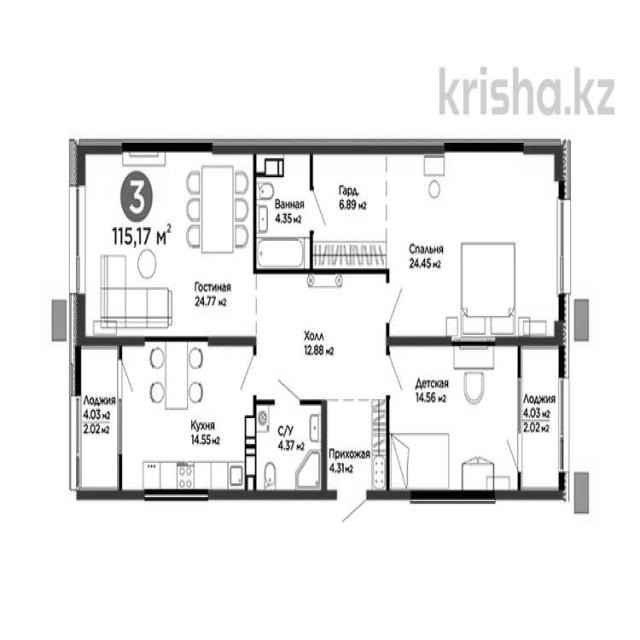balcony: (523, 349, 566, 494), (256, 402, 322, 495), (78, 345, 119, 492)
bathroom: (256, 148, 309, 270)
hallway: (258, 275, 383, 394), (329, 400, 386, 492)
kitchen: (119, 346, 254, 497)
living_room: (82, 147, 252, 340), (389, 150, 559, 343), (389, 349, 518, 496)
other: (310, 150, 386, 274)
